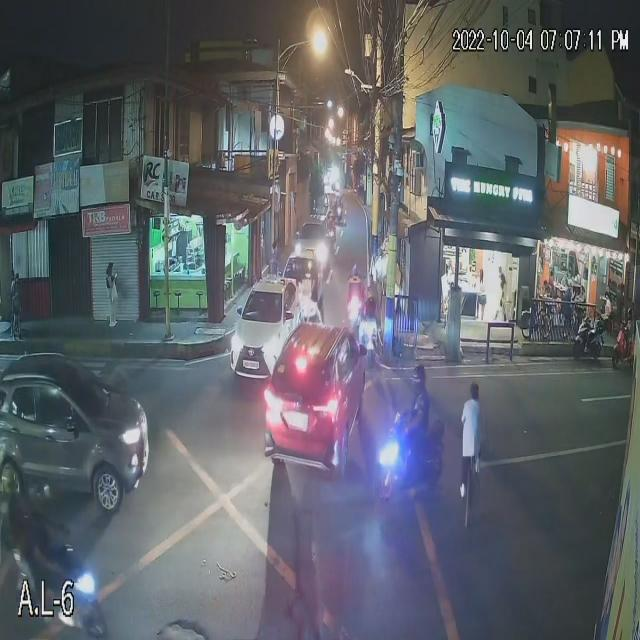helmet: (26, 480, 59, 510)
motorcycle: (12, 554, 112, 640), (375, 413, 443, 503), (570, 317, 609, 360)
rider: (28, 513, 62, 580), (396, 395, 433, 456)
